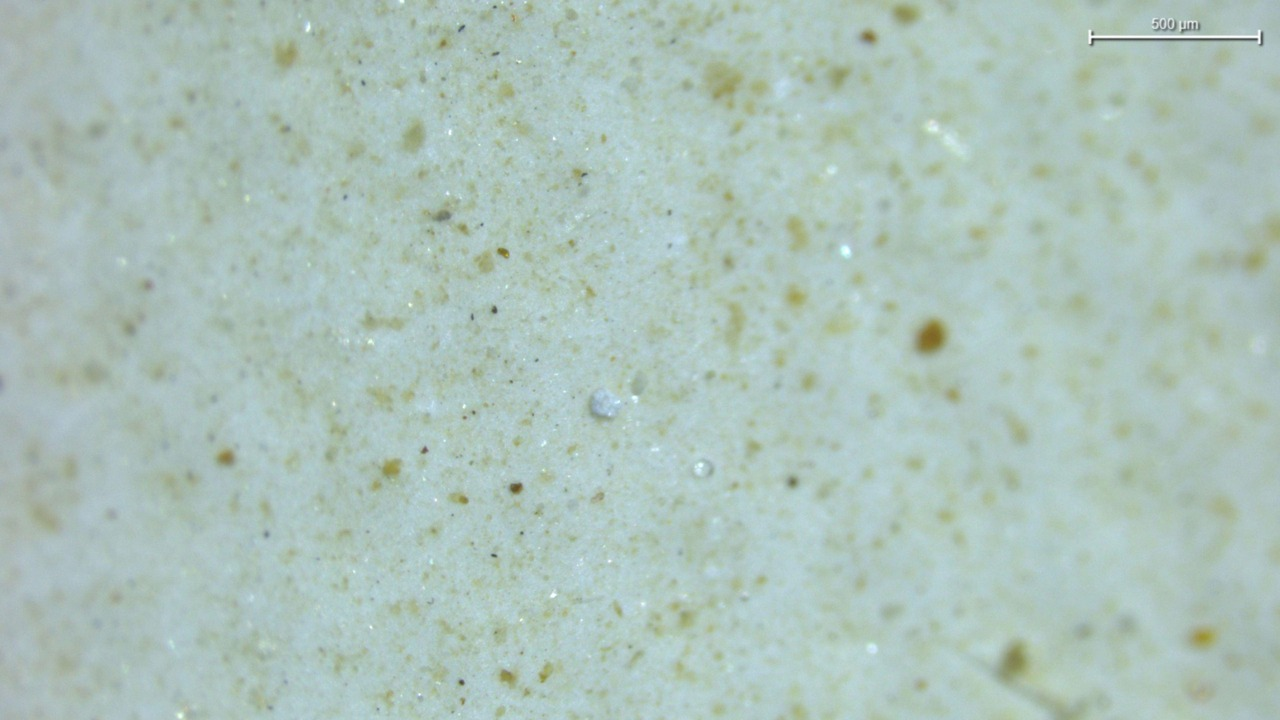microplastic_fragment: (590, 389, 622, 418)
